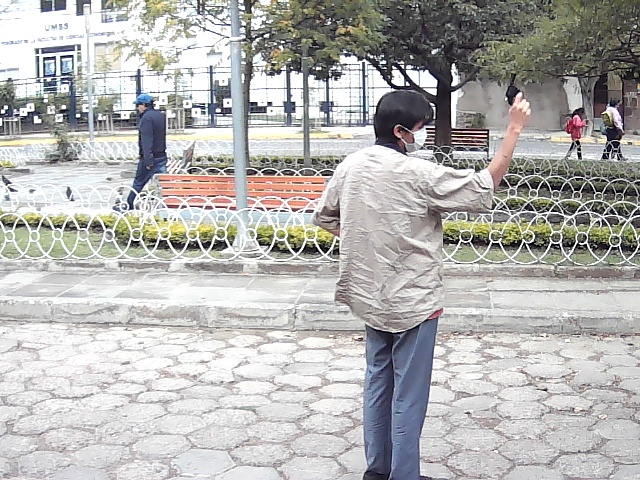pistola: (494, 62, 538, 129)
